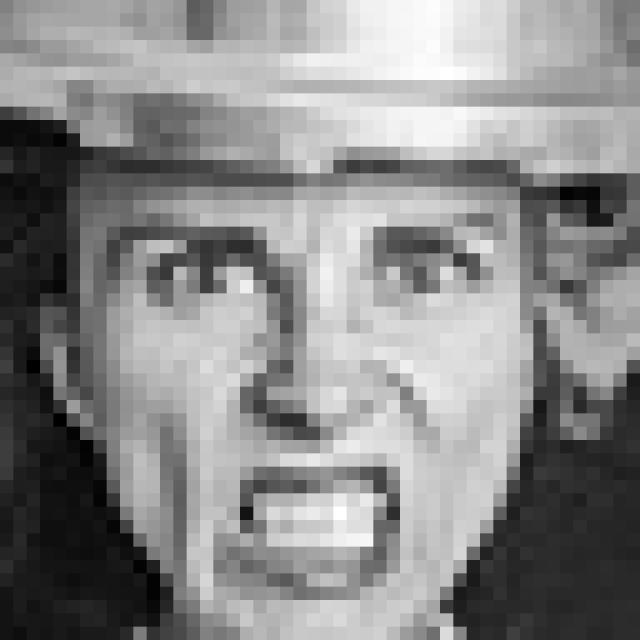angry: (96, 202, 514, 591)
